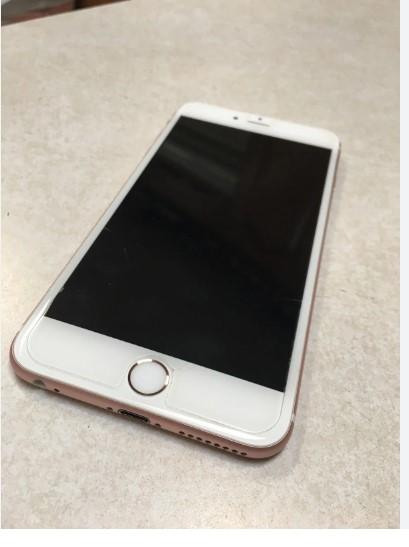Smart Phone: (11, 102, 342, 464)
